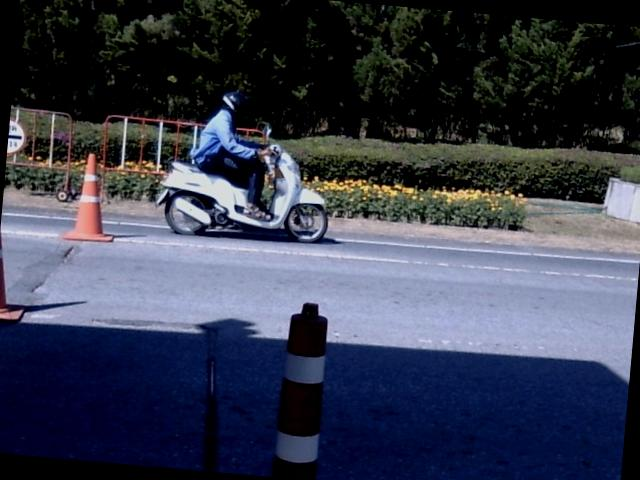helmet: (221, 89, 246, 117)
motor: (155, 144, 326, 242)
person: (190, 90, 270, 219)
